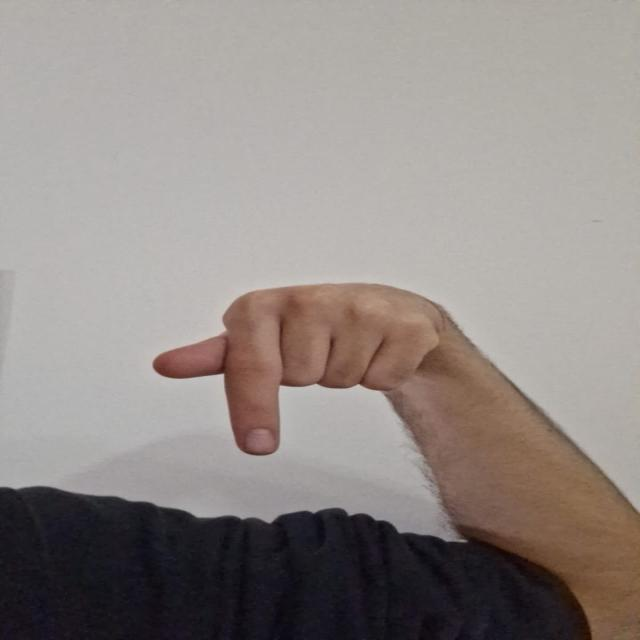Q: (148, 275, 501, 470)
